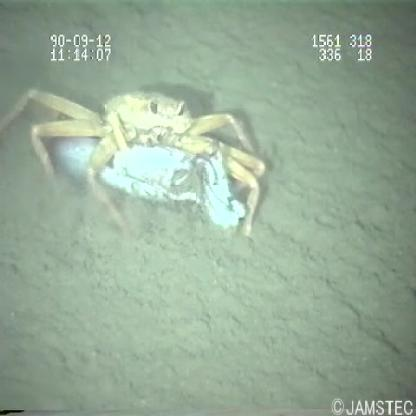Bio: (1, 82, 270, 239)
